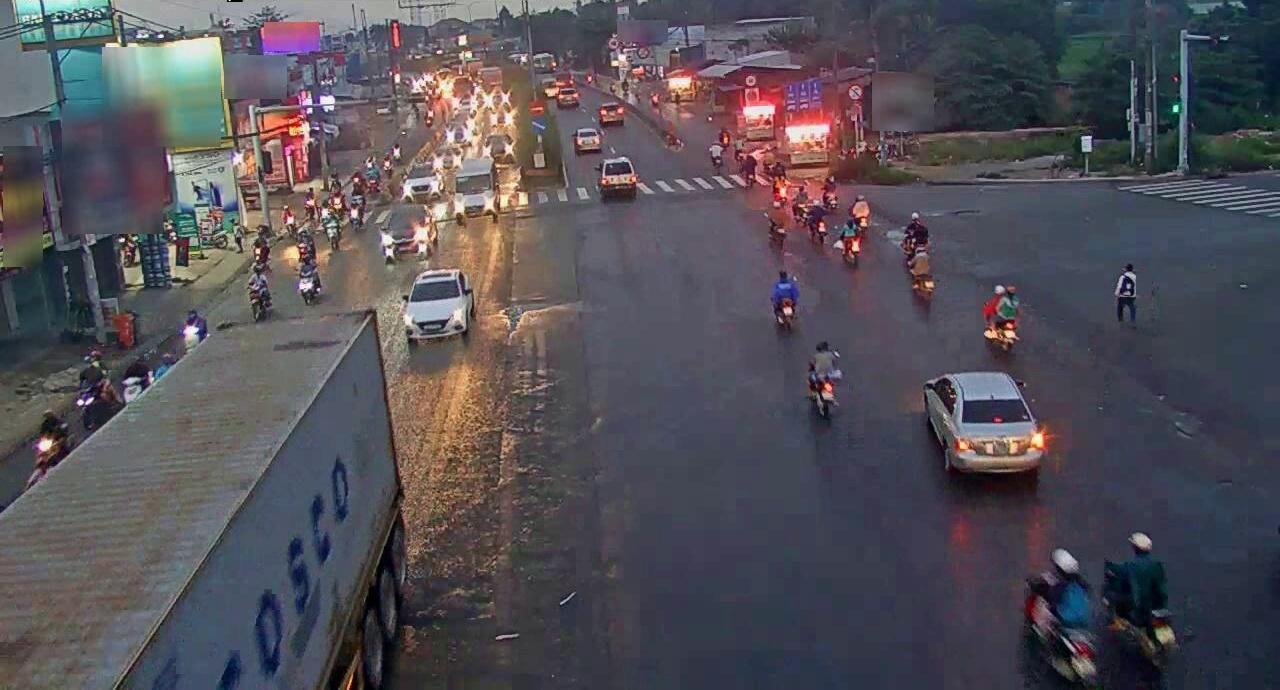xe container: (0, 306, 414, 690)
xe hoi: (919, 361, 1045, 485), (403, 267, 473, 343), (591, 146, 646, 207)
xe may: (1095, 527, 1176, 686), (1015, 537, 1093, 687), (806, 334, 844, 422), (978, 282, 1019, 354), (896, 204, 935, 274), (908, 239, 944, 310), (767, 266, 800, 330)
